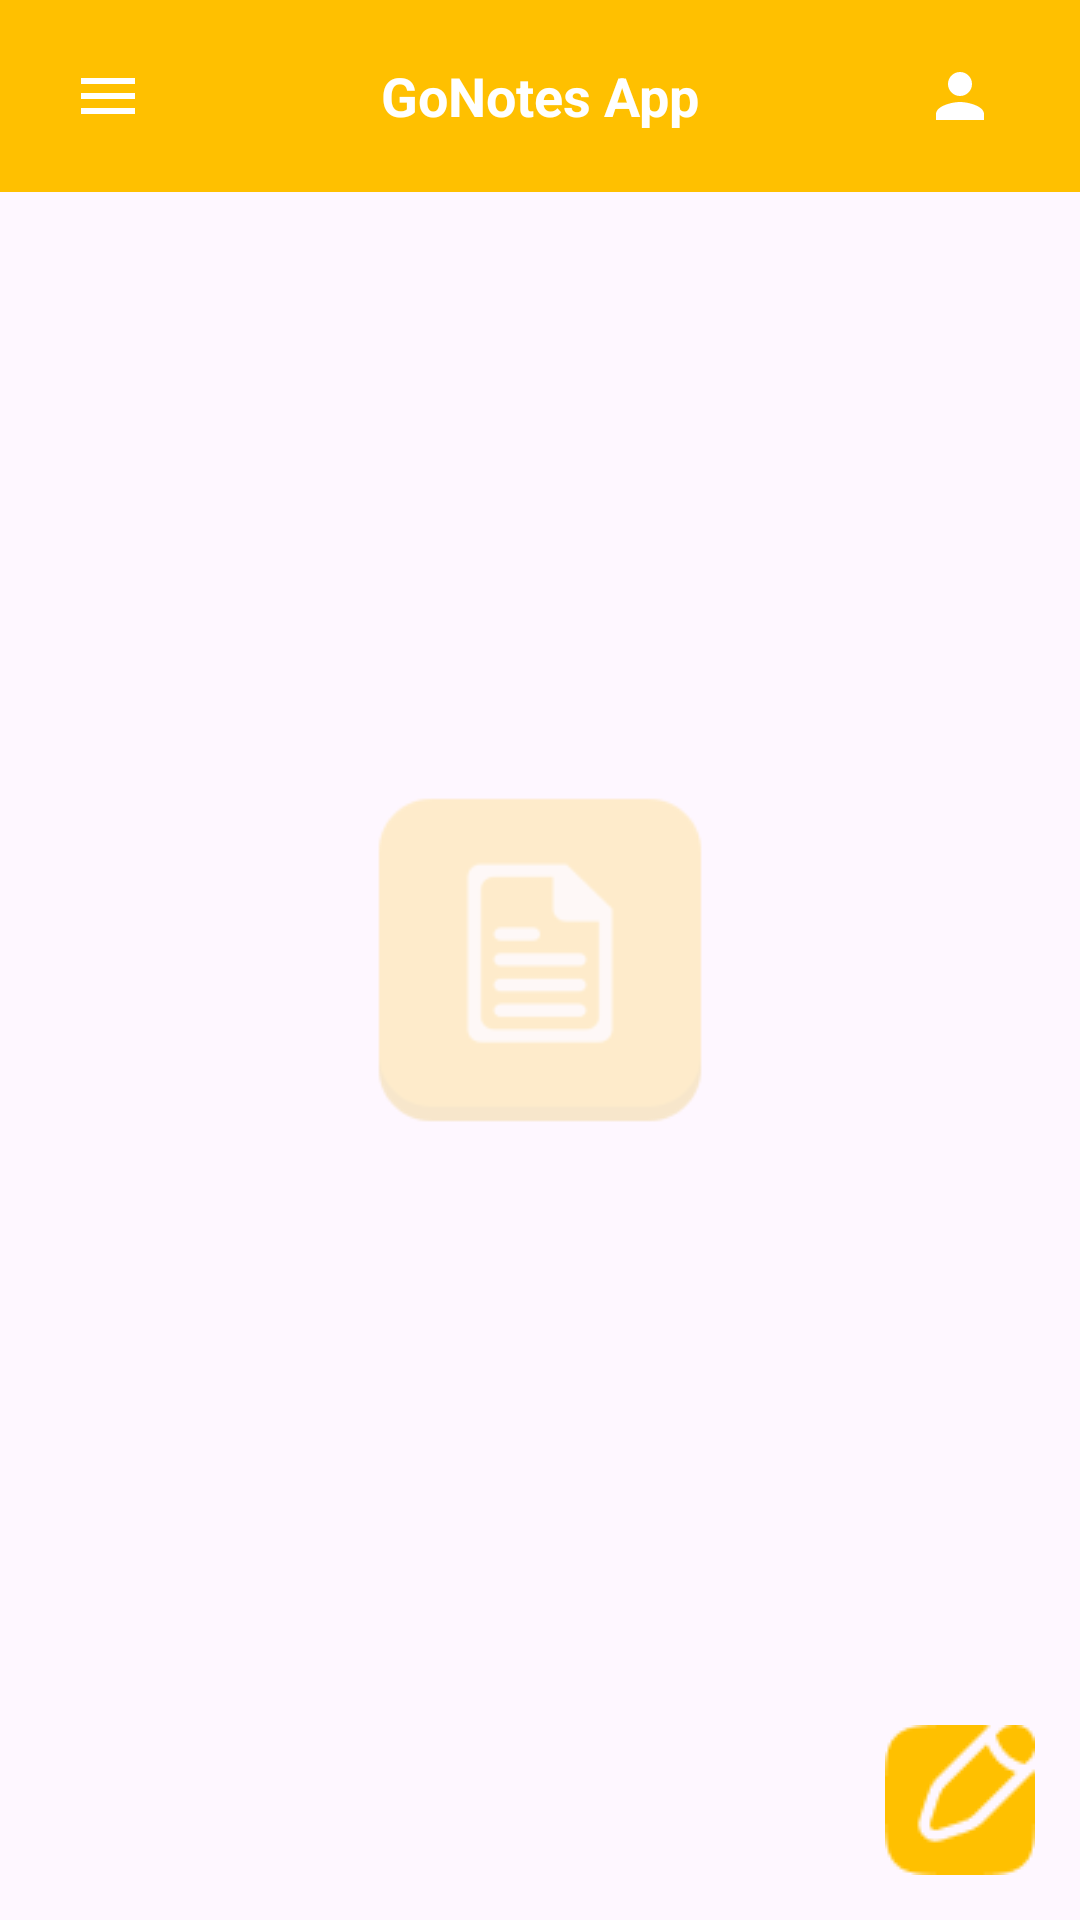

Locate icon controls on the screen. Image size 1080 x 1920, boxes as (x1, y1, x2, y2).
Add Note: (885, 1725, 1035, 1875)
Menu List Icon: (81, 78, 135, 114)
Profile Icon: (936, 72, 984, 120)
